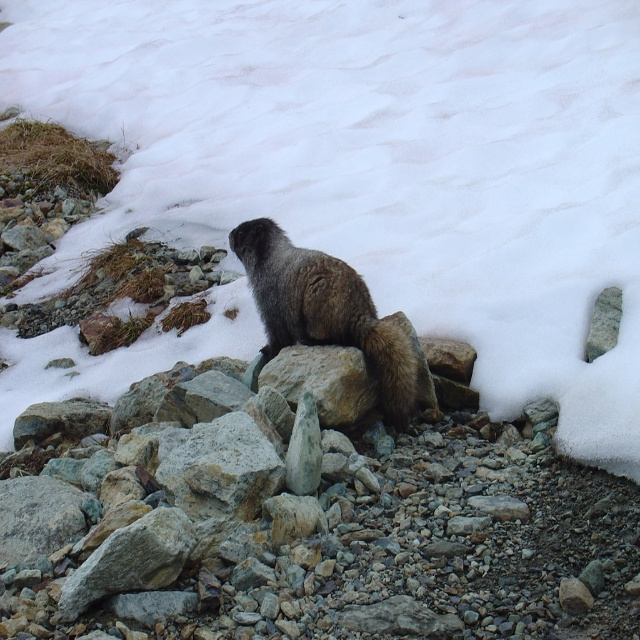Otter: (224, 213, 423, 435)
